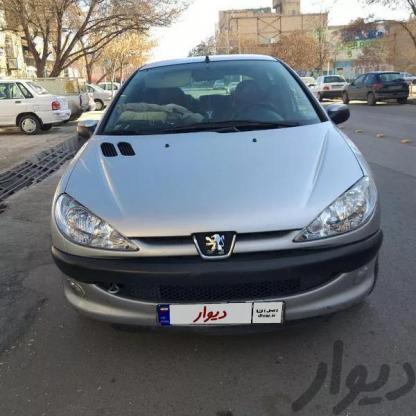Car: (57, 52, 383, 346), (0, 76, 62, 133), (342, 70, 416, 116), (38, 74, 112, 108), (314, 75, 344, 100), (89, 78, 112, 102)
